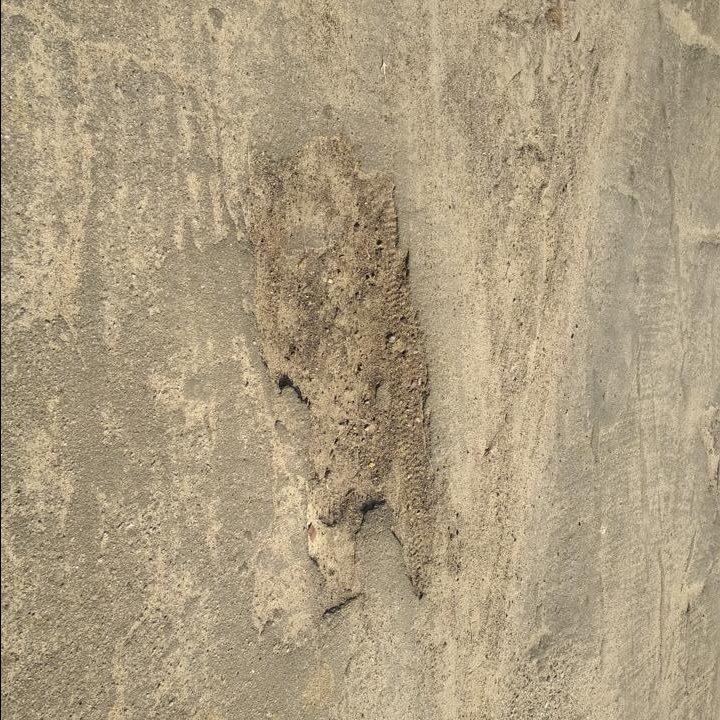pothole: (240, 127, 447, 618)
